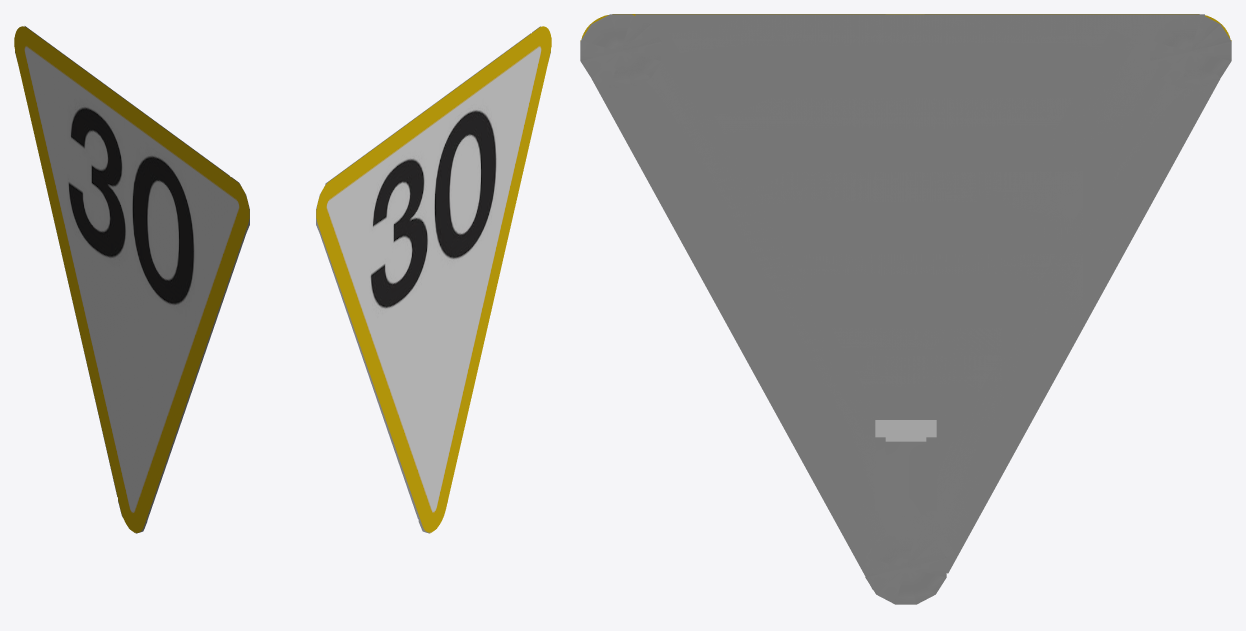
The model's file is permissible_speed_30.obj.
The picture shows the model from 3 angles, left to right: view 1: azimuth 30°, elevation 25°; view 2: azimuth 150°, elevation 25°; view 3: azimuth 270°, elevation 25°; orthographic projection. The views are drawn at different scales.
Visible parts, largest first — view 1: cube; view 2: cube; view 3: cube, circle.
Boxes of the visible parts, <box> form: cube: <box>14,26,249,533</box>; cube: <box>316,26,551,533</box>; cube: <box>580,14,1231,589</box>; circle: <box>580,14,1231,604</box>.
Bounding box in the file's own units: 0.0797 × 1 × 1.
Materials: 2 (2 with a texture image).
